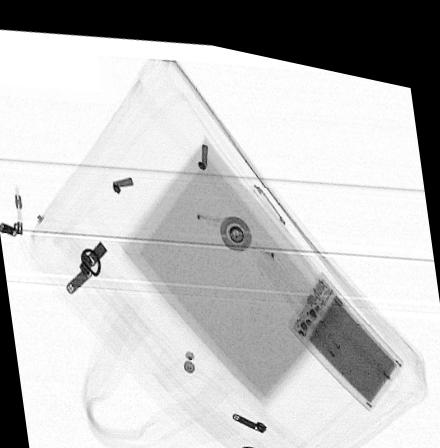Powerbank: (287, 257, 403, 395)
